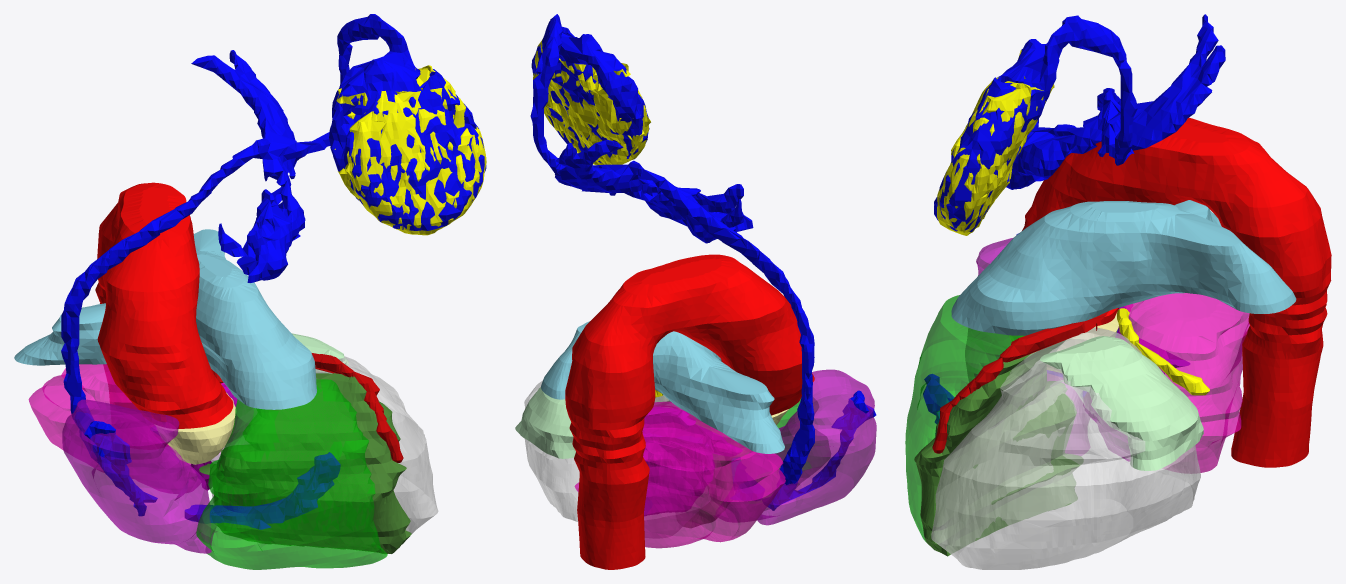
The model's file is DICOM_VT.glb.
3 views of the same model, side by side, from view 1: azimuth 30°, elevation 25°; view 2: azimuth 150°, elevation 25°; view 3: azimuth 270°, elevation 25° (orthographic). The views are drawn at different scales.
Visible parts, largest first — view 1: VT_patient.007, VT_patient.004, VT_patient.006, VT_patient.011, VT_patient.010, VT_patient.005, VT_patient.001, VT_patient.002, VT_patient.003, VT_patient.012, VT_patient.013, VT_patient.009 (+1 smaller); view 2: VT_patient.011, VT_patient.007, VT_patient.002, VT_patient.005, VT_patient.010, VT_patient.009, VT_patient.001, VT_patient.003, VT_patient.008, VT_patient.004, VT_patient.006; view 3: VT_patient.003, VT_patient.011, VT_patient.010, VT_patient.006, VT_patient.007, VT_patient.002, VT_patient.008, VT_patient.004, VT_patient.001, VT_patient.005, VT_patient.013, VT_patient (+2 smaller).
Part boxes in pixels (left/top/right/bottom): VT_patient.007: left=61, top=14, right=486, bottom=529; VT_patient.004: left=196, top=379, right=387, bottom=569; VT_patient.006: left=199, top=373, right=411, bottom=553; VT_patient.011: left=95, top=182, right=233, bottom=444; VT_patient.010: left=14, top=229, right=316, bottom=409; VT_patient.005: left=62, top=399, right=216, bottom=553; VT_patient.001: left=334, top=65, right=486, bottom=235; VT_patient.002: left=28, top=364, right=226, bottom=493; VT_patient.003: left=210, top=356, right=438, bottom=534; VT_patient.012: left=155, top=392, right=235, bottom=464; VT_patient.013: left=211, top=353, right=403, bottom=462; VT_patient.009: left=150, top=383, right=253, bottom=490; VT_patient.011: left=565, top=254, right=814, bottom=569; VT_patient.007: left=530, top=14, right=876, bottom=510; VT_patient.002: left=574, top=401, right=785, bottom=548; VT_patient.005: left=716, top=369, right=876, bottom=525; VT_patient.010: left=541, top=321, right=784, bottom=453; VT_patient.009: left=642, top=407, right=742, bottom=515; VT_patient.001: left=533, top=39, right=650, bottom=165; VT_patient.003: left=524, top=380, right=709, bottom=537; VT_patient.008: left=515, top=387, right=575, bottom=458; VT_patient.004: left=747, top=398, right=830, bottom=509; VT_patient.006: left=655, top=395, right=745, bottom=527; VT_patient.003: left=931, top=327, right=1200, bottom=569; VT_patient.011: left=1022, top=117, right=1331, bottom=467; VT_patient.010: left=951, top=200, right=1296, bottom=335; VT_patient.006: left=914, top=340, right=1083, bottom=556; VT_patient.007: left=923, top=14, right=1225, bottom=433; VT_patient.002: left=1117, top=293, right=1249, bottom=473; VT_patient.008: left=1040, top=336, right=1203, bottom=470; VT_patient.004: left=905, top=295, right=1025, bottom=542; VT_patient.001: left=937, top=49, right=1054, bottom=235; VT_patient.005: left=965, top=237, right=1117, bottom=455; VT_patient.013: left=932, top=311, right=1108, bottom=453; VT_patient: left=1117, top=308, right=1209, bottom=395.
Size of the model in its own units: 0.8297 by 1.03 by 0.7131.
